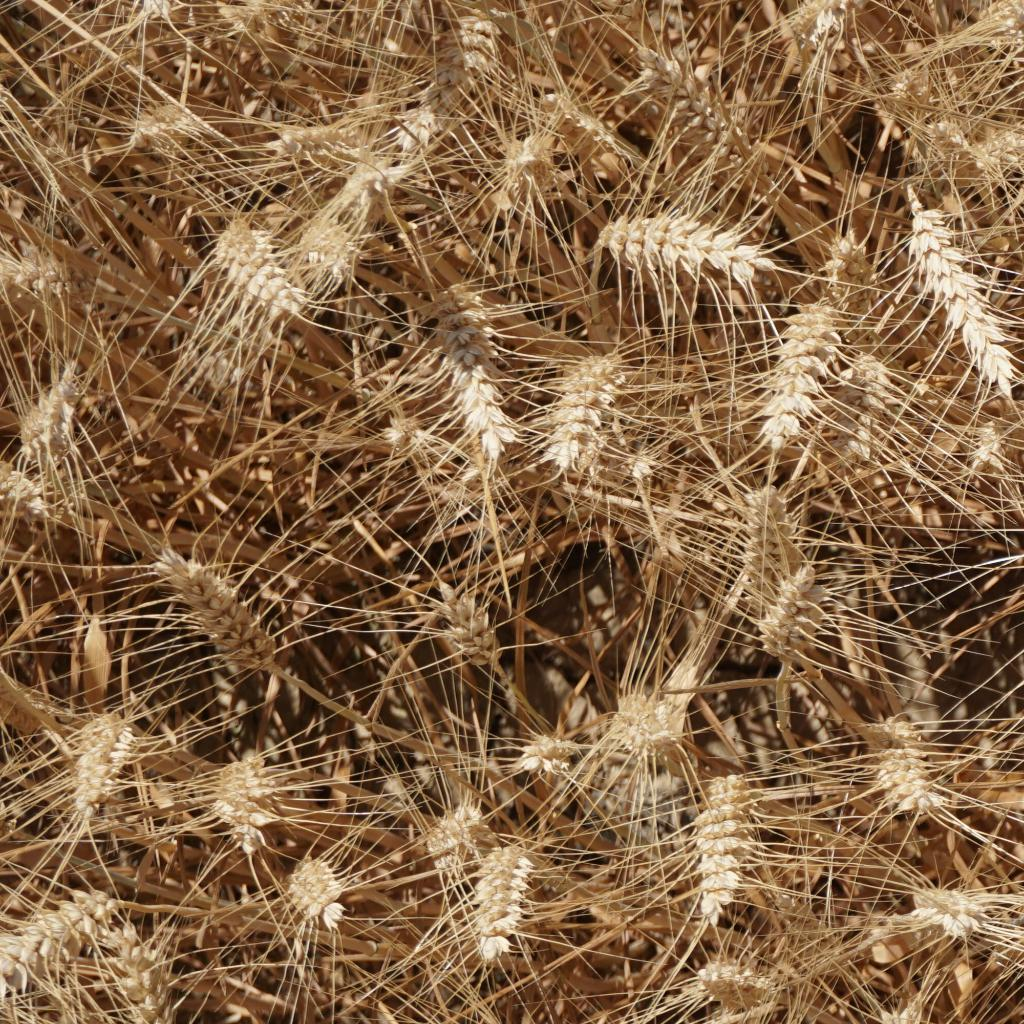0-0: (911, 211, 1024, 387), (641, 34, 771, 175), (440, 280, 524, 457), (163, 548, 275, 669), (531, 348, 625, 476), (591, 211, 760, 280), (684, 769, 753, 930), (759, 301, 830, 451), (206, 221, 307, 320), (455, 836, 534, 960), (65, 708, 143, 830), (866, 718, 945, 832), (1, 887, 108, 971), (280, 188, 367, 284), (113, 930, 201, 1024), (748, 563, 832, 656), (7, 379, 96, 466), (207, 745, 288, 837), (533, 78, 624, 155), (263, 102, 359, 172), (415, 21, 513, 89), (118, 80, 196, 160), (736, 492, 792, 601), (833, 347, 887, 460), (277, 856, 356, 930), (604, 689, 689, 756), (691, 954, 777, 1018), (443, 577, 504, 661), (422, 802, 492, 871), (819, 231, 876, 311), (958, 411, 1024, 480), (907, 877, 976, 943), (968, 103, 1024, 175), (905, 106, 972, 166), (378, 88, 443, 149), (775, 0, 864, 41), (516, 722, 574, 783), (0, 255, 68, 304), (886, 54, 944, 109), (880, 996, 988, 1024), (0, 468, 56, 517), (497, 137, 547, 188), (387, 409, 420, 455), (1009, 8, 1024, 98)
